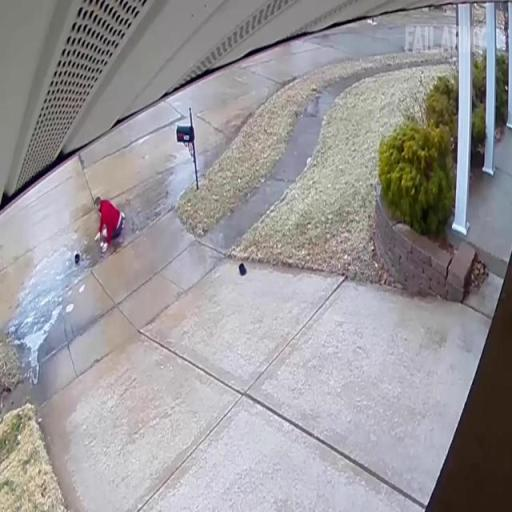Fall: (93, 193, 125, 254)
